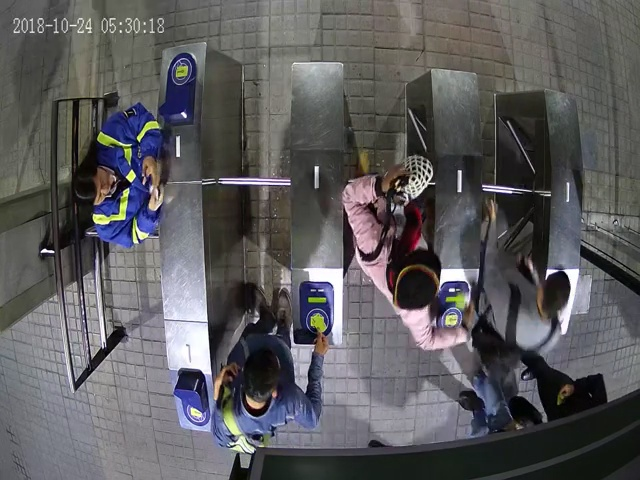Chaleco_azul: (72, 102, 166, 248)
